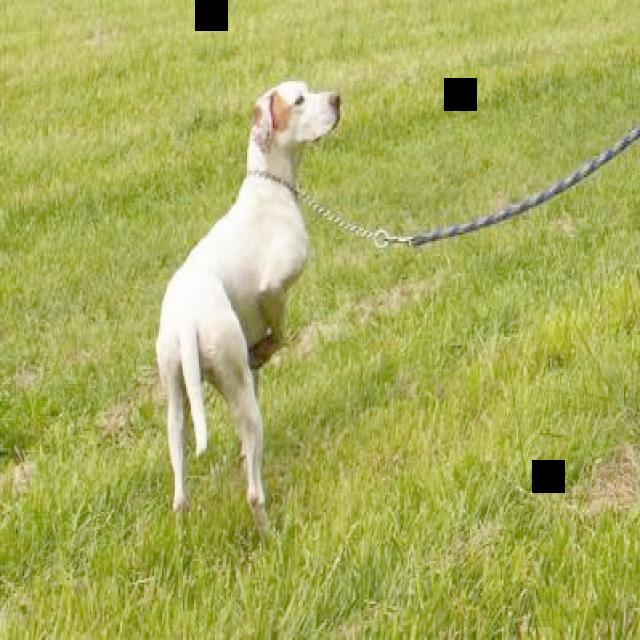adult_dog: (153, 78, 344, 543)
